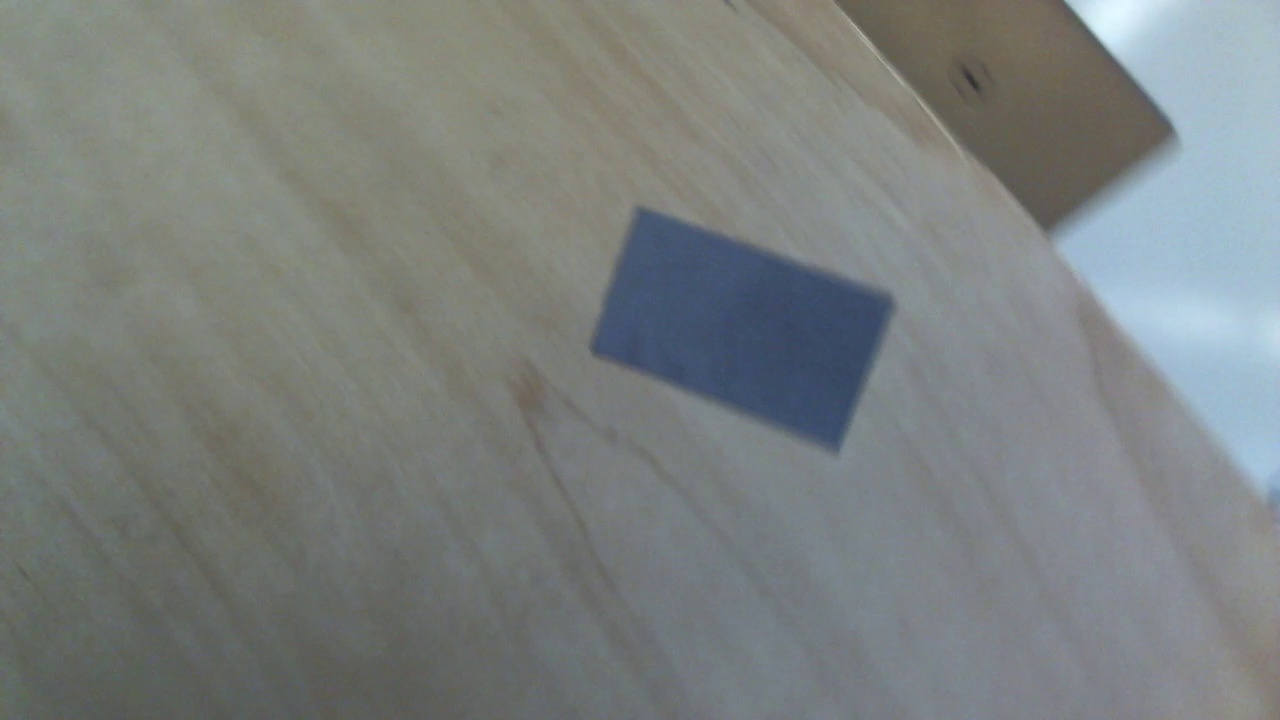Tape: (590, 206, 896, 456)
